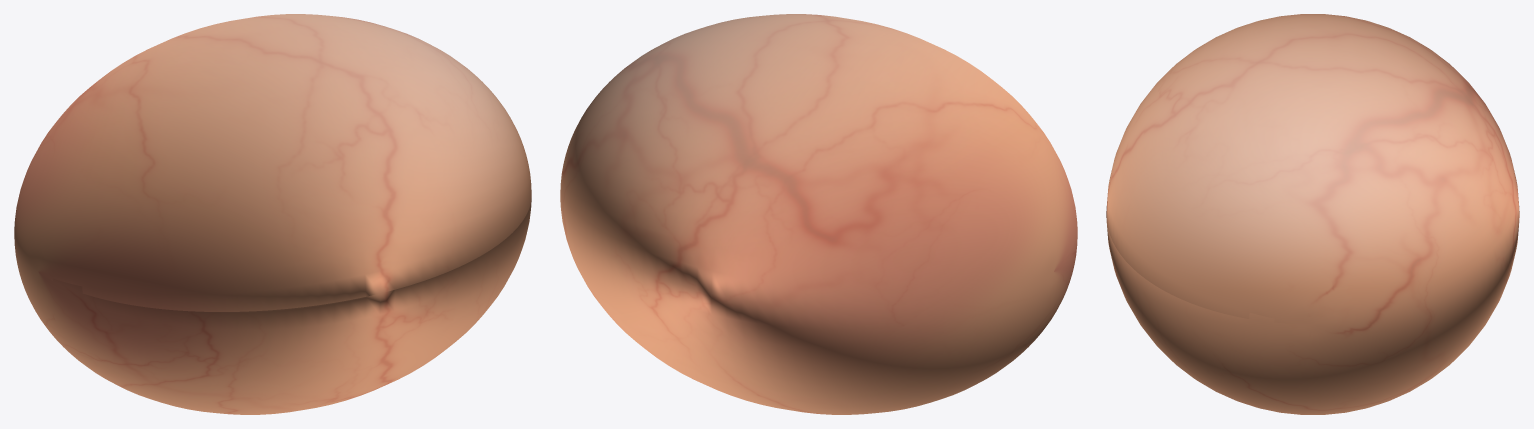
3 views of the same model, side by side, from view 1: azimuth 30°, elevation 25°; view 2: azimuth 150°, elevation 25°; view 3: azimuth 270°, elevation 25° (orthographic). The views are drawn at different scales.
Parts seen in each view (by area): view 1: default; view 2: default; view 3: default.
Boxes of the visible parts, left/top/right/bottom form: default: left=14, top=14, right=531, bottom=414; default: left=560, top=14, right=1077, bottom=414; default: left=1106, top=14, right=1519, bottom=414.
Size of the model in its own units: 10 by 7.12 by 7.95.
Materials: 10 (10 with a texture image).
